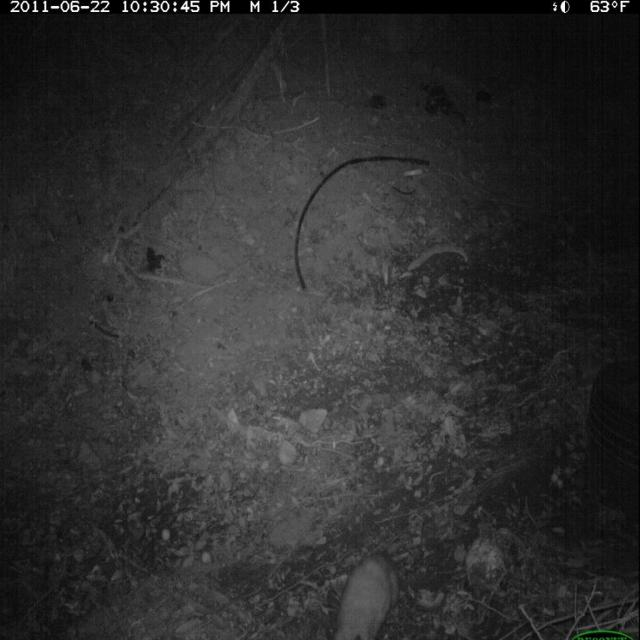opossum: (333, 549, 404, 636)
